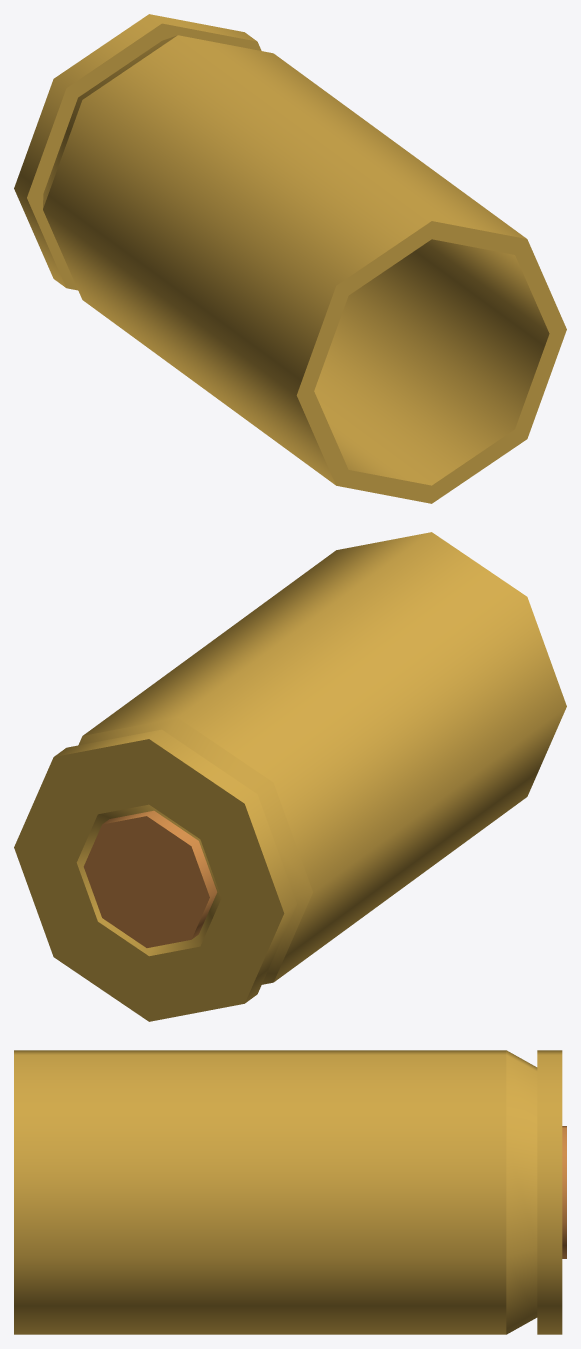
Rendered from Empty9mm.FBX.
The picture shows the model from 3 angles, top to bottom: view 1: azimuth 30°, elevation 25°; view 2: azimuth 150°, elevation 25°; view 3: azimuth 270°, elevation 25°; orthographic projection. The views are drawn at different scales.
Parts seen in each view (by area): view 1: Empty9mm; view 2: Empty9mm; view 3: Empty9mm.
Boxes of the visible parts, x1,y1,x2,y2 form: Empty9mm: [14, 14, 566, 503]; Empty9mm: [14, 532, 566, 1021]; Empty9mm: [14, 1050, 566, 1334].
Bounding box in the file's own units: 1.41 × 1.41 × 2.57.
